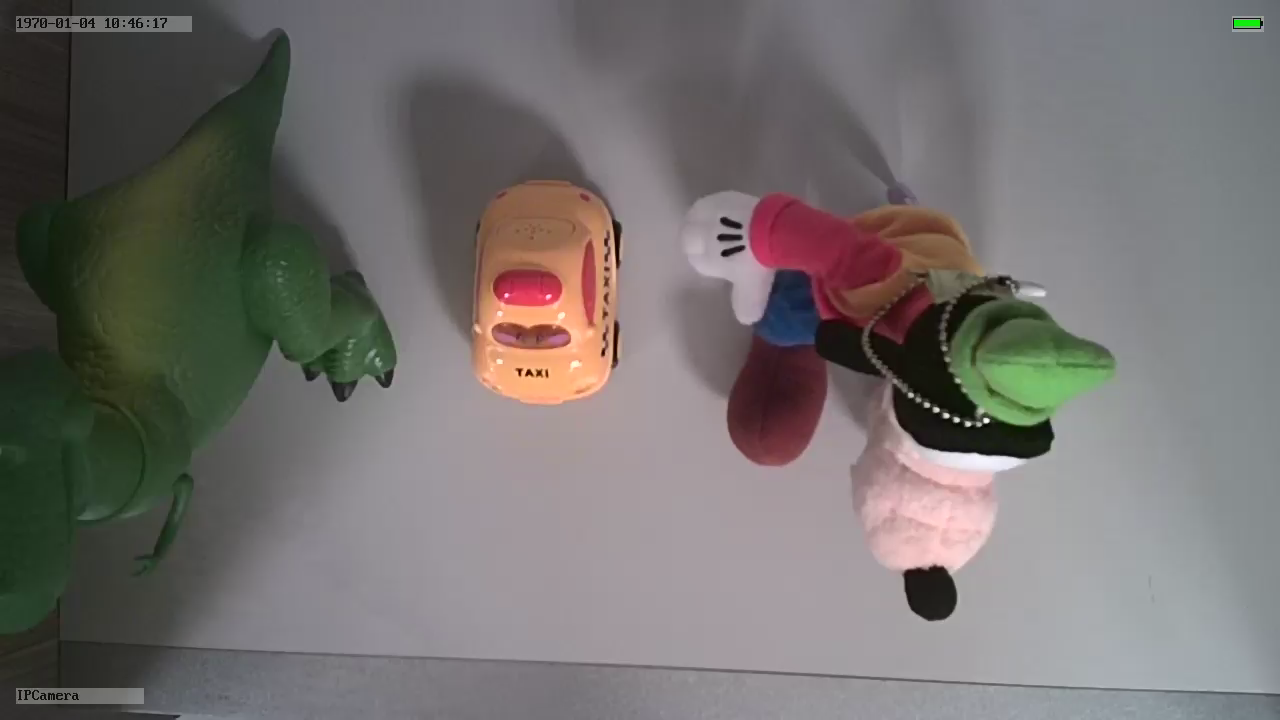goofy: (678, 185, 1122, 633)
